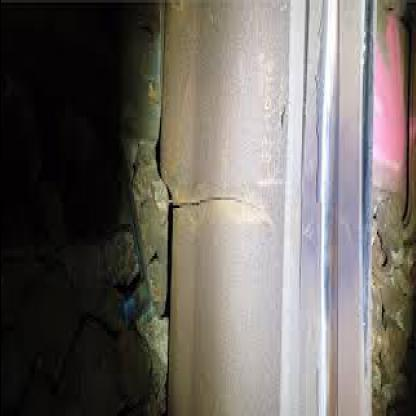Defective: (70, 0, 382, 411)
